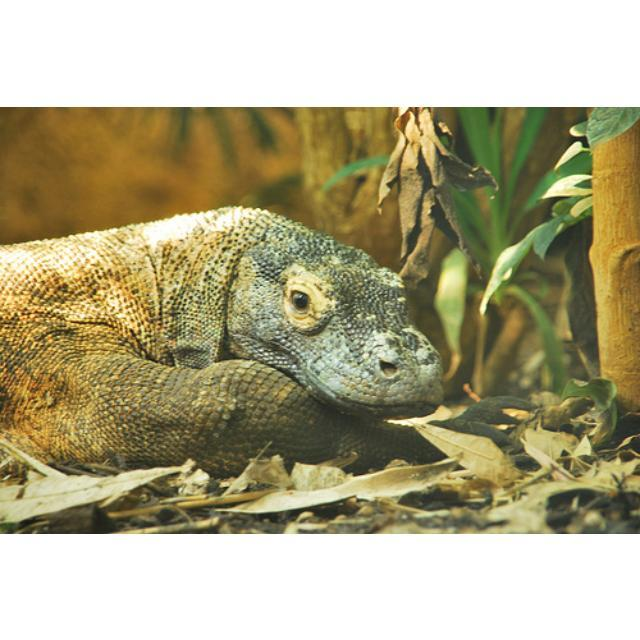KomodoDragon: (1, 204, 442, 467)
